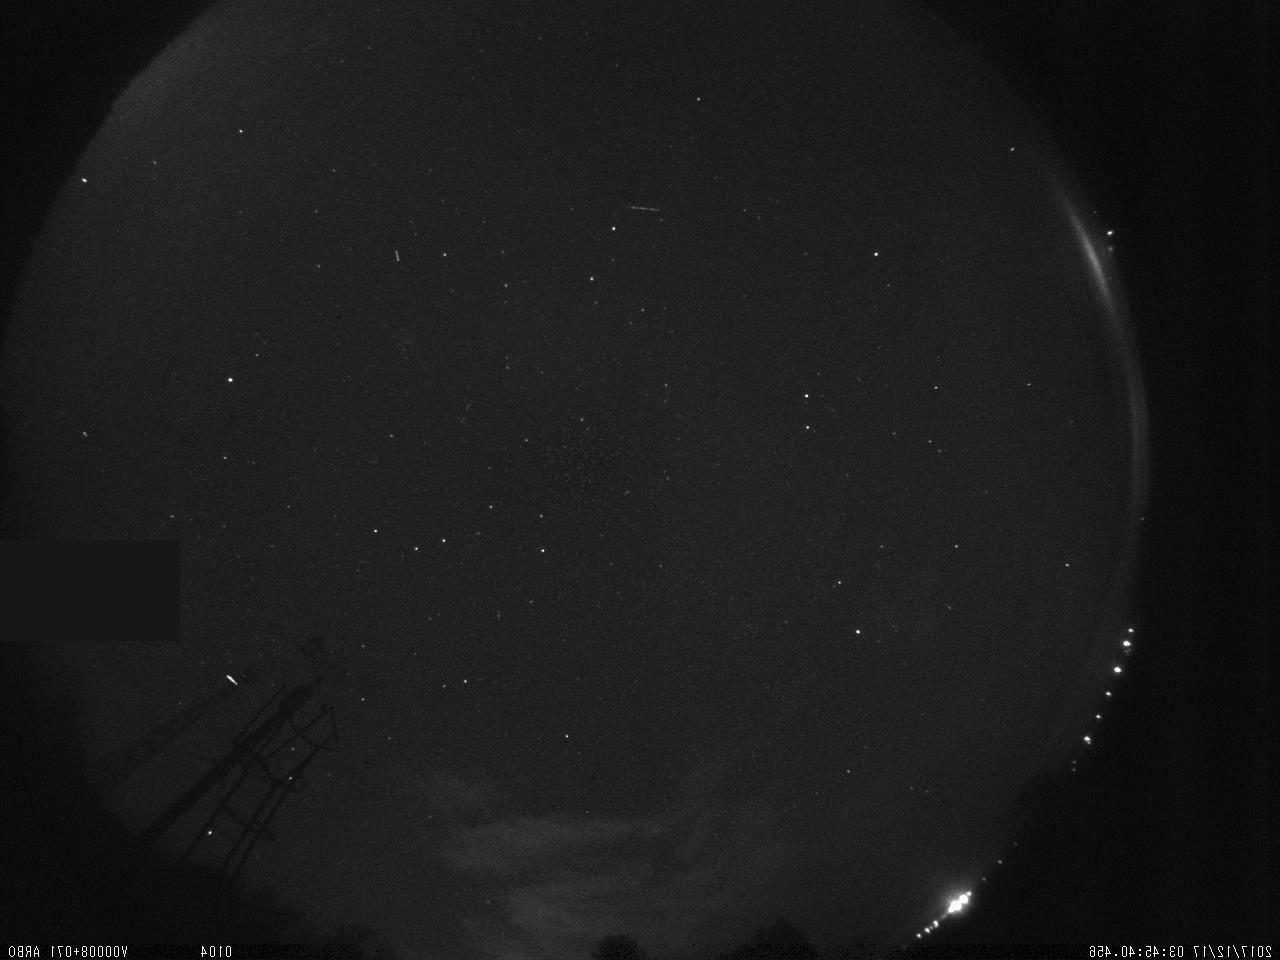meteor: (618, 196, 679, 217), (221, 663, 239, 692)
